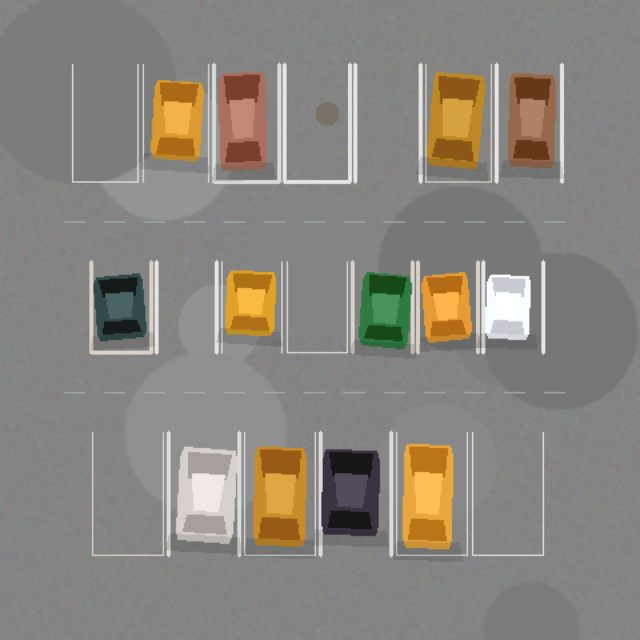space-empty: (92, 432, 163, 555), (472, 432, 543, 555), (72, 64, 137, 181), (284, 64, 349, 181), (355, 64, 420, 181), (156, 261, 216, 352), (287, 261, 347, 352)
space-occupied: (168, 432, 239, 555), (244, 432, 315, 555), (320, 432, 391, 555), (396, 432, 467, 555), (213, 64, 279, 181), (425, 64, 491, 181), (143, 64, 208, 181), (496, 64, 561, 181), (91, 261, 151, 352), (221, 261, 281, 352), (352, 261, 412, 352), (417, 261, 477, 352), (483, 261, 543, 352)
